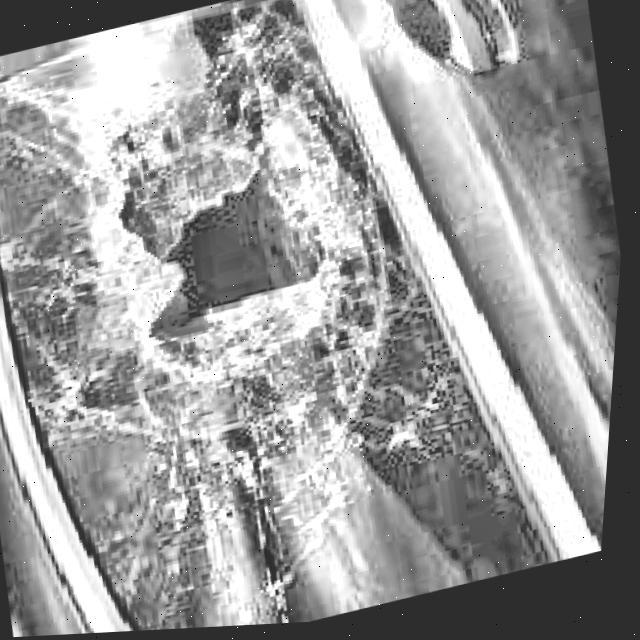glass_shatter: (74, 76, 376, 369)
